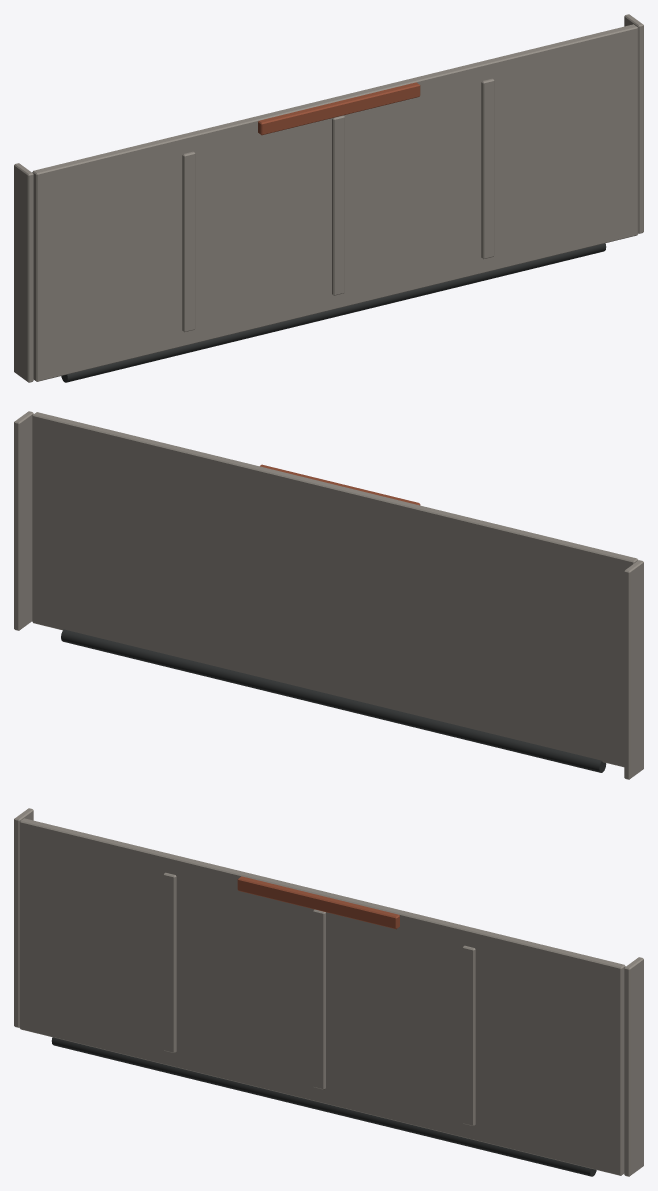
File: attached_lid_container_front_lid.glb
3 renders of one model, top to bottom at view 1: azimuth 30°, elevation 25°; view 2: azimuth 150°, elevation 25°; view 3: azimuth 330°, elevation 25°, orthographic.
Visible parts, largest first — view 1: attached_lid_container_front_lid.001; view 2: attached_lid_container_front_lid.001; view 3: attached_lid_container_front_lid.001.
Boxes of the visible parts, bbox=[...] form: attached_lid_container_front_lid.001: bbox=[14, 14, 643, 382]; attached_lid_container_front_lid.001: bbox=[14, 411, 643, 779]; attached_lid_container_front_lid.001: bbox=[14, 808, 643, 1176].
Bounding box in the file's own units: 0.618 × 0.21 × 0.034.
